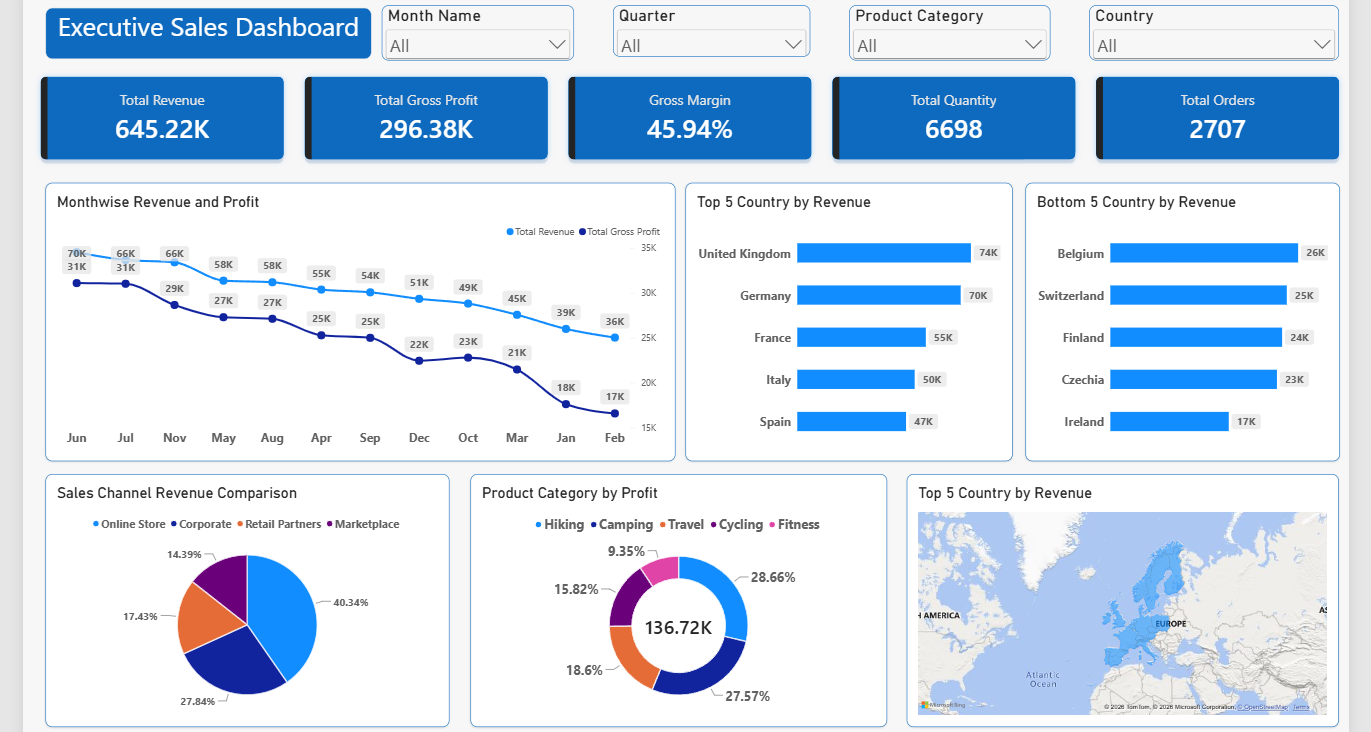

What the dashboard file says about the page in this screenshot:
{"tool":"powerbi","page":{"name":"Page 1","canvas":[1920,1080],"ordinal":0},"visuals":[{"type":"cardVisual","fields":{"Data":["All_Measures.Total Revenue","All_Measures.Total Gross Profit","All_Measures.Gross Margin","All_Measures.Total Quantity","All_Measures.Total Orders"]},"box":[14.5,108.6,1905.6,143],"z":0},{"type":"textbox","box":[32.6,19.9,472.3,74.2],"z":1000},{"type":"slicer","fields":{"Values":["Sales_data.Product Category"]},"box":[1196.2,16.3,291.4,79.6],"z":2000},{"type":"slicer","fields":{"Values":["Data_Table.Month Name"]},"box":[519.4,16.3,278.7,79.6],"z":3000},{"type":"slicer","fields":{"Values":["Data_Table.Quarter"]},"box":[854.2,16.3,285.9,74.2],"z":4000},{"type":"slicer","fields":{"Values":["Sales_data.Country"]},"box":[1543.6,16.3,361.9,79.6],"z":5000},{"type":"lineChart","title":"Monthwise Revenue and Profit","fields":{"Category":["Data_Table.Month Name"],"Y":["All_Measures.Total Revenue"],"Y2":["All_Measures.Total Gross Profit"]},"box":[32.9,273.8,911.8,403.4],"z":6000},{"type":"clusteredBarChart","title":"Top 5 Country by Revenue","fields":{"Category":["Sales_data.Country"],"Y":["All_Measures.Total Revenue"]},"box":[959.1,273.3,473.4,403.4],"z":7000},{"type":"clusteredBarChart","title":"Bottom 5 Country by Revenue","fields":{"Category":["Sales_data.Country"],"Y":["All_Measures.Total Revenue"]},"box":[1451.1,273.8,454.9,403.4],"z":8000},{"type":"pieChart","title":"Sales Channel Revenue Comparison","fields":{"Category":["Sales_data.Sales Channel"],"Y":["All_Measures.Total Revenue"]},"box":[32.9,695.7,584.6,366.4],"z":9000},{"type":"donutChart","title":"Product Category by Profit","fields":{"Category":["Sales_data.Product Category"],"Y":["All_Measures.Total Gross Profit"]},"box":[648.4,695.7,603.1,366.4],"z":9001},{"type":"filledMap","title":"Top 5 Country by Revenue","fields":{"Category":["Sales_data.Country"]},"box":[1280.3,695.7,625.7,366.4],"z":9002}]}

Visuals, with their boxes in screenshot pixels (x1, y1, x2, y2):
cardVisual - All_Measures.Total Revenue x All_Measures.Total Gross Profit: <region>28, 75, 1348, 174</region>
textbox: <region>40, 14, 368, 65</region>
slicer - Sales_data.Product Category: <region>847, 11, 1049, 66</region>
slicer - Data_Table.Month Name: <region>378, 11, 571, 66</region>
slicer - Data_Table.Quarter: <region>610, 11, 808, 63</region>
slicer - Sales_data.Country: <region>1087, 11, 1338, 66</region>
"Monthwise Revenue and Profit" lineChart: <region>41, 190, 672, 469</region>
"Top 5 Country by Revenue" clusteredBarChart: <region>682, 189, 1010, 469</region>
"Bottom 5 Country by Revenue" clusteredBarChart: <region>1023, 190, 1338, 469</region>
"Sales Channel Revenue Comparison" pieChart: <region>41, 482, 446, 731</region>
"Product Category by Profit" donutChart: <region>467, 482, 885, 731</region>
"Top 5 Country by Revenue" filledMap: <region>905, 482, 1338, 731</region>
